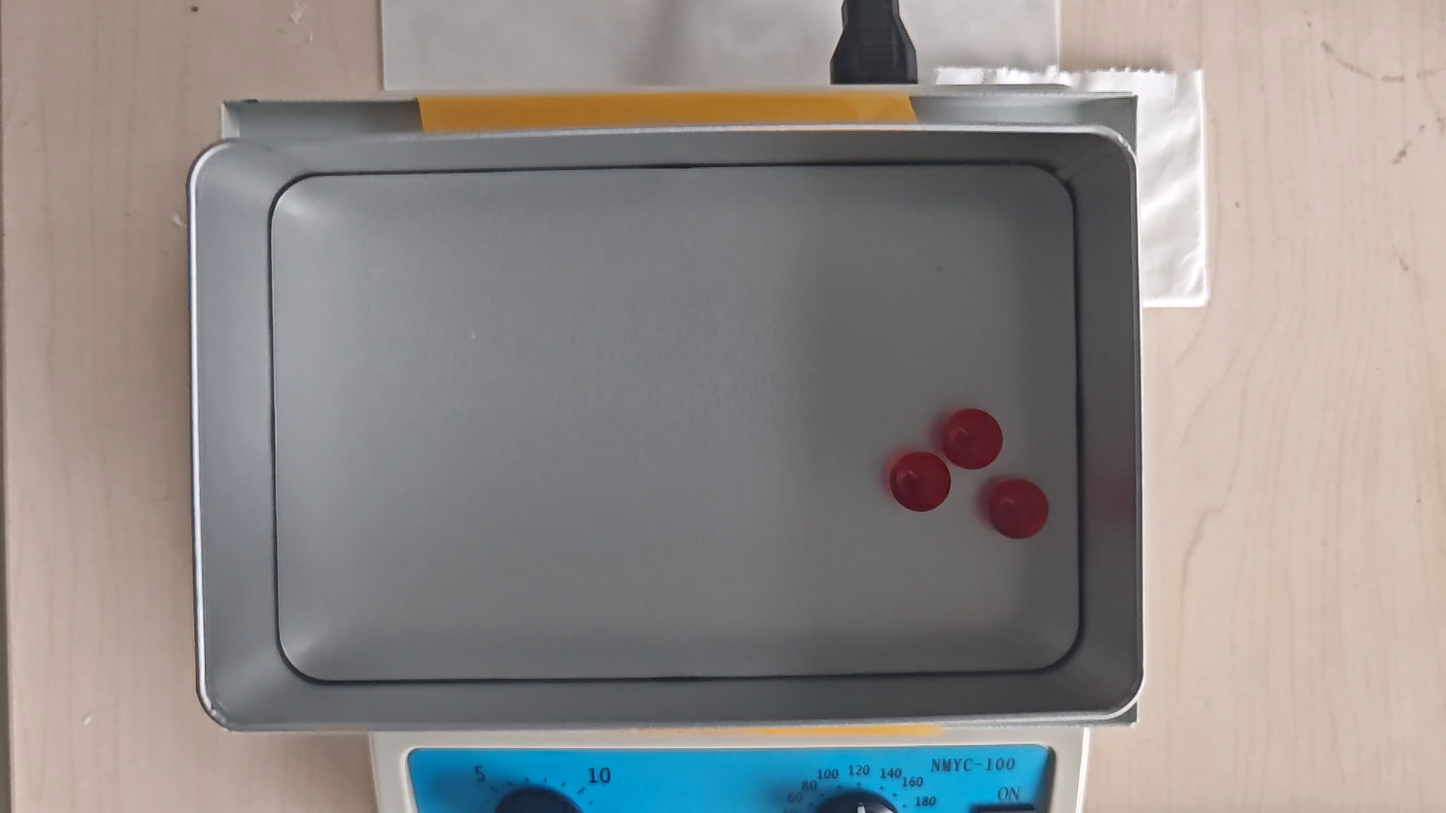ball: (890, 450, 953, 512), (941, 407, 1002, 471), (986, 480, 1049, 541)
container: (273, 164, 1079, 679)
